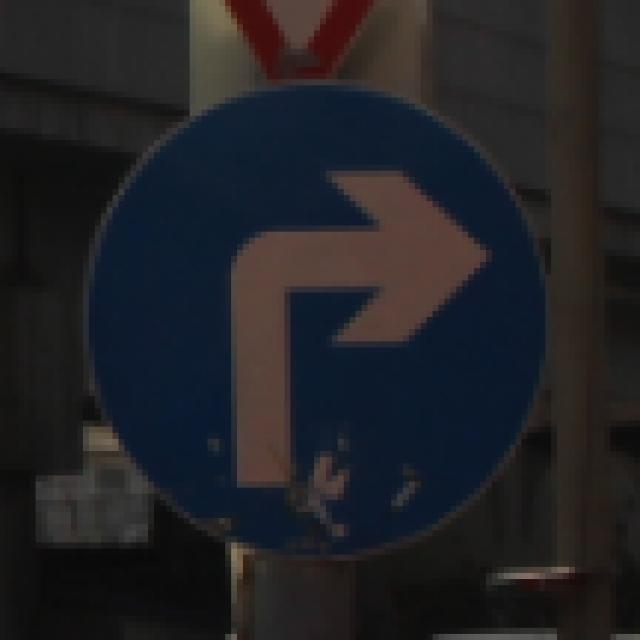Right: (71, 72, 552, 562)
